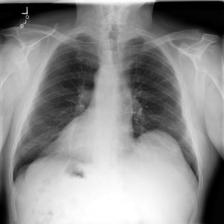normal: (7, 27, 204, 193)
